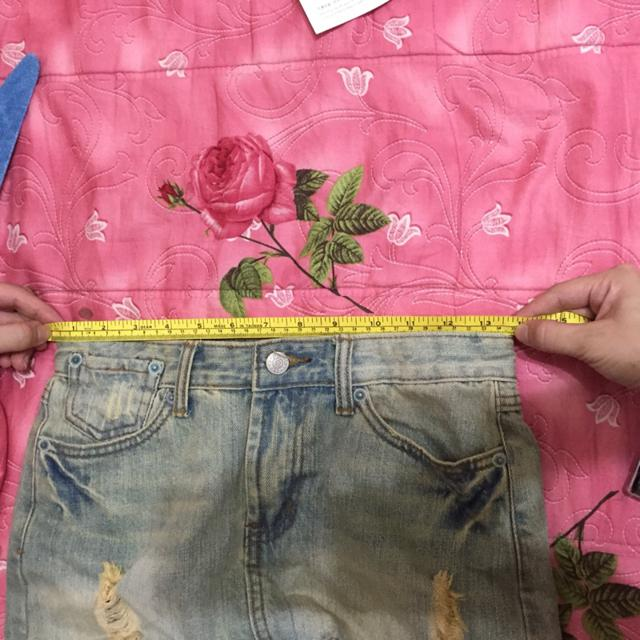Shorts: (2, 329, 563, 640)
